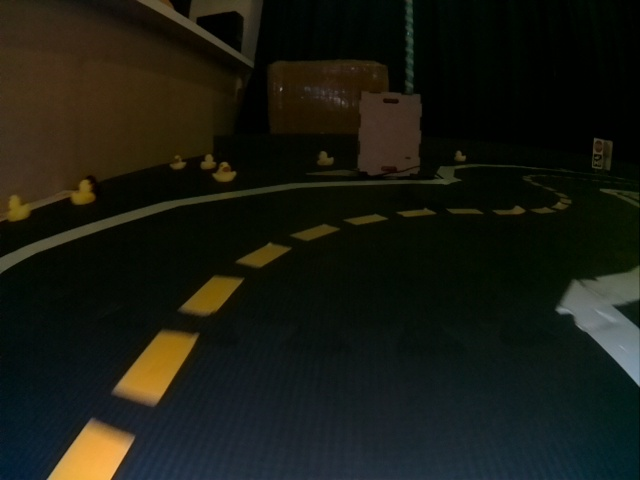Duckie: (7, 195, 30, 222), (71, 180, 95, 205), (212, 162, 237, 182), (200, 154, 216, 168), (318, 151, 333, 165), (170, 156, 186, 169), (454, 151, 466, 161)
QR code: (593, 154, 602, 169)
Stop sign: (594, 139, 603, 153)
